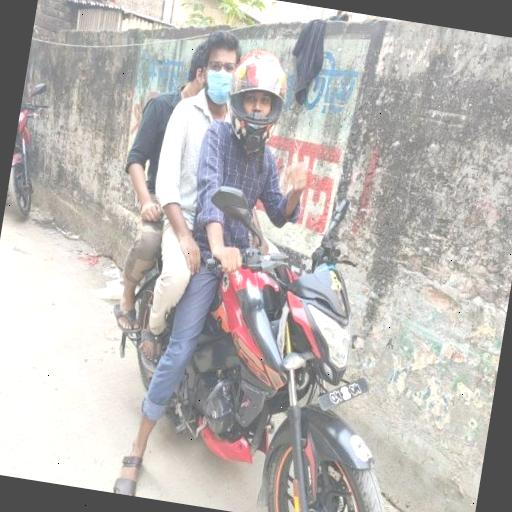helmet: (212, 37, 338, 198)
triple riding: (66, 11, 491, 512)
